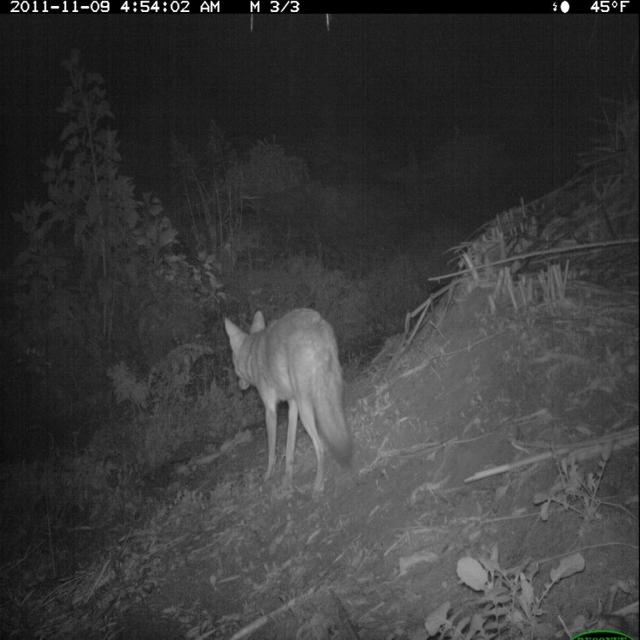coyote: (221, 292, 368, 499)
